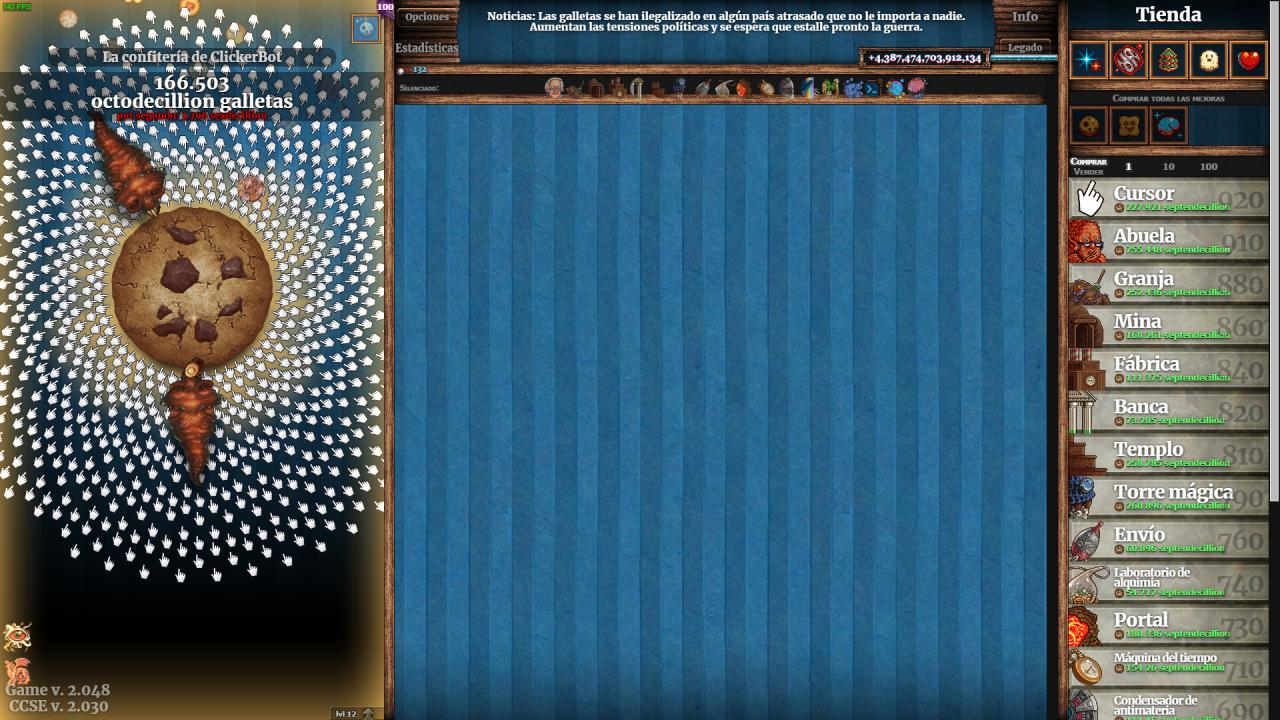RedCookie: (236, 174, 265, 204)
